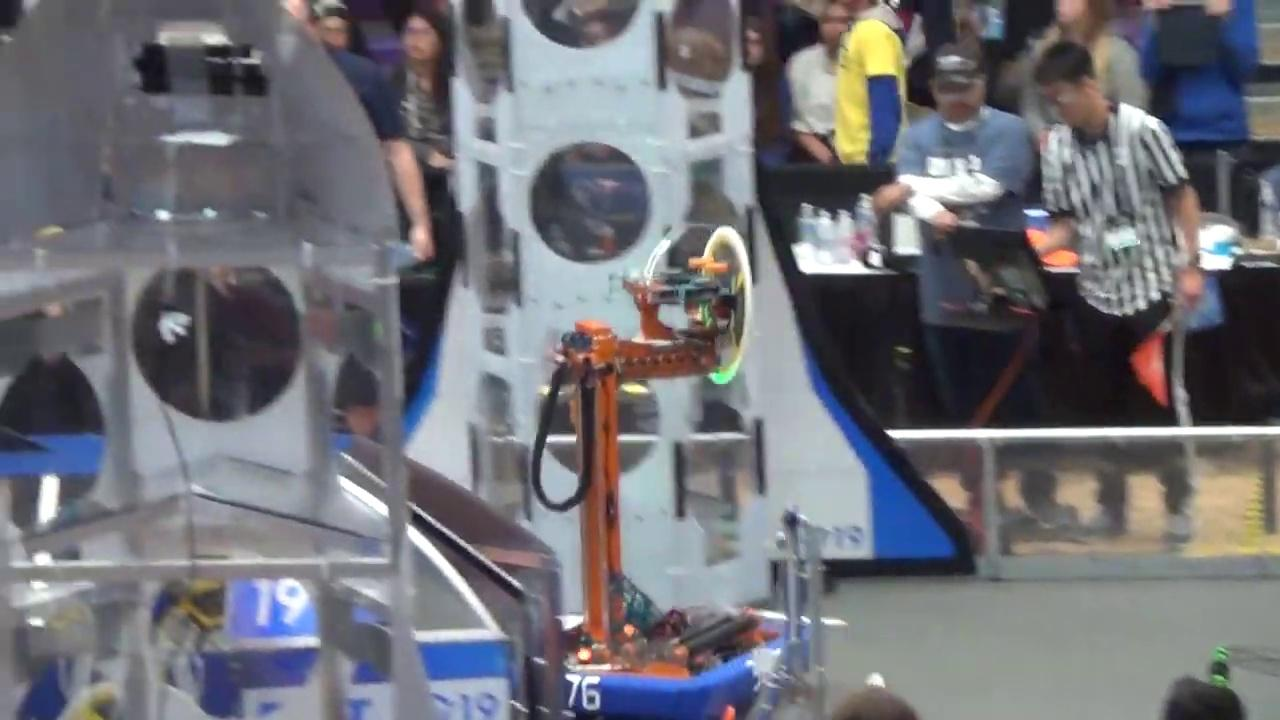robot: (499, 219, 817, 720)
